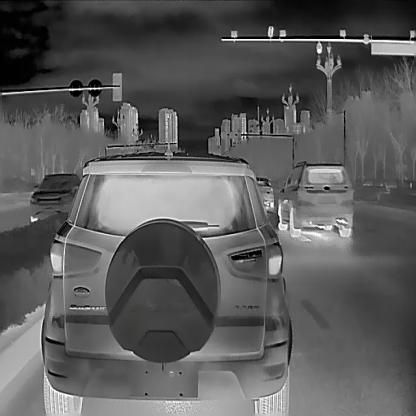car: (41, 151, 292, 416), (276, 160, 352, 236), (29, 172, 78, 219), (253, 176, 273, 210)
